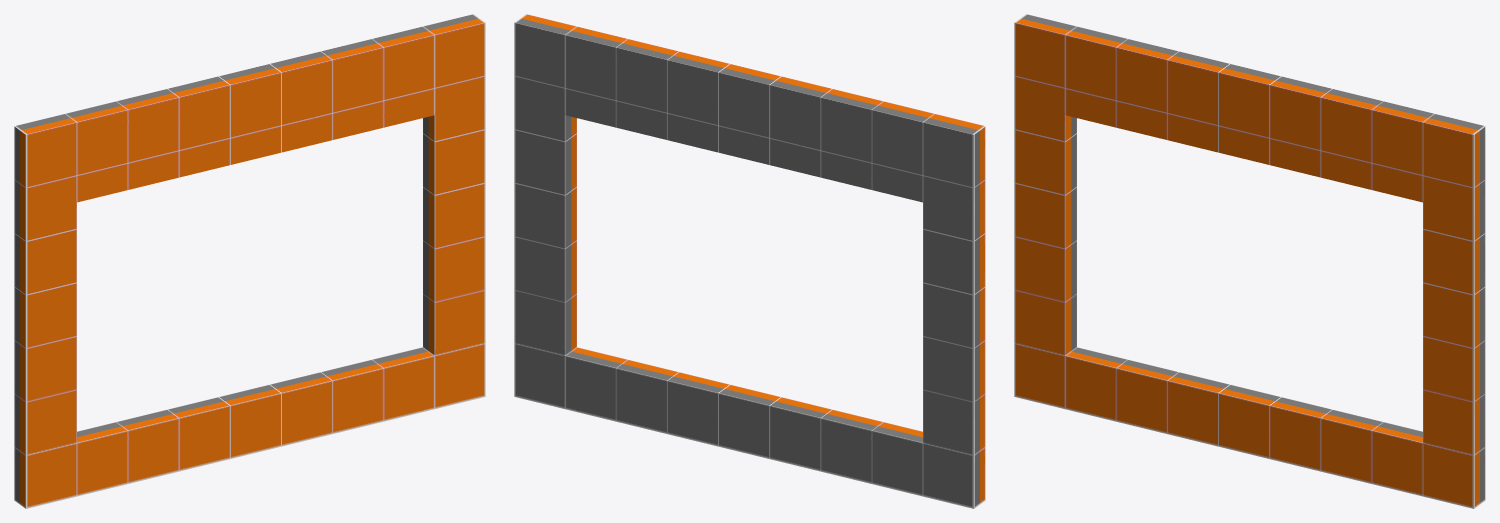
Rendered from M01WallWindowTypeJ_1.FBX.
3 renders of one model, left to right at view 1: azimuth 30°, elevation 25°; view 2: azimuth 150°, elevation 25°; view 3: azimuth 330°, elevation 25°, orthographic.
Visible parts, largest first — view 1: M01WallWindowTypeJ_1; view 2: M01WallWindowTypeJ_1; view 3: M01WallWindowTypeJ_1.
Boxes of the visible parts, x1,y1,x2,y2 form: M01WallWindowTypeJ_1: (14,14,485,508); M01WallWindowTypeJ_1: (514,14,985,508); M01WallWindowTypeJ_1: (1014,14,1485,508).
Size of what is drawn, in the model's own units: 4.5 by 3.5 by 0.2.
